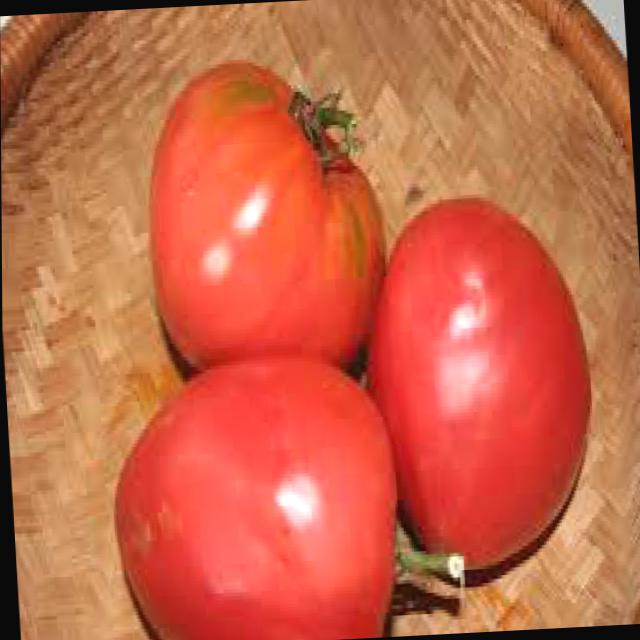tomato: (356, 192, 601, 574), (111, 350, 404, 640), (141, 57, 391, 380)
